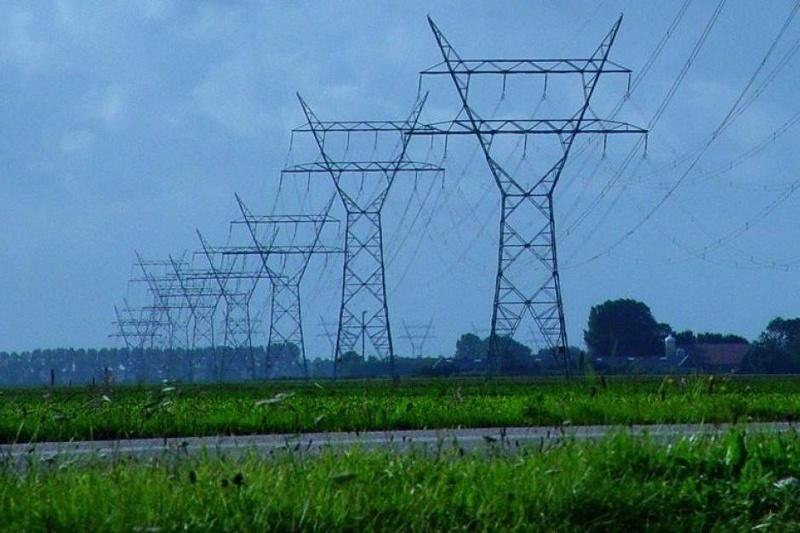power_tower: (419, 23, 645, 381), (278, 83, 454, 392), (235, 196, 341, 385), (197, 230, 271, 383)
